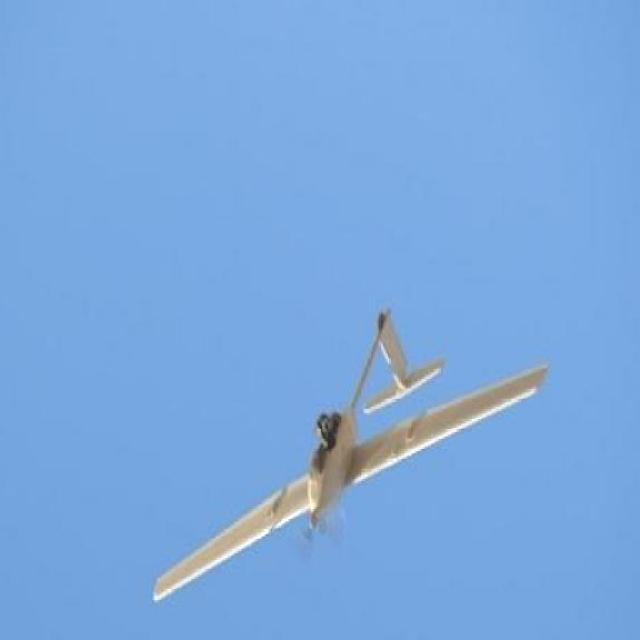plane: (149, 308, 550, 606)
